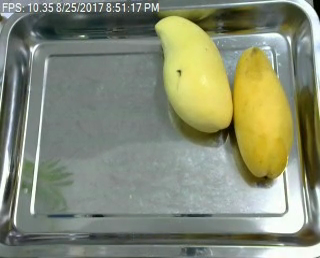Mango: (151, 15, 233, 137), (229, 45, 297, 176)
